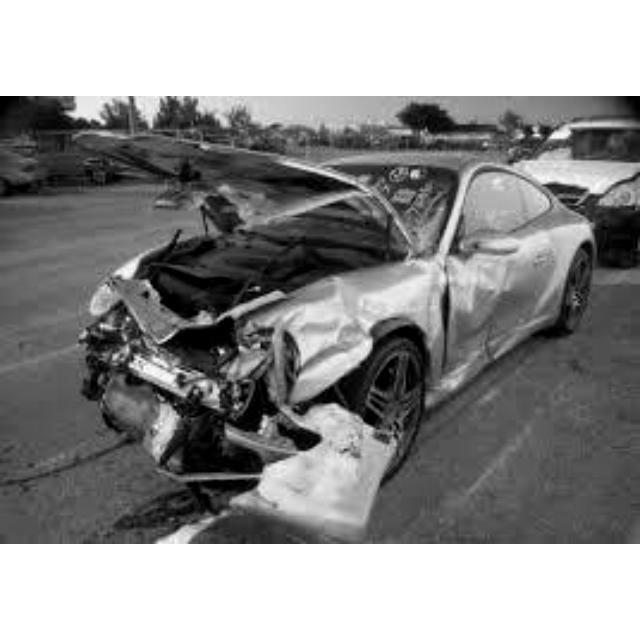doorouter-dent: (447, 257, 521, 364)
fender-dent: (306, 271, 434, 380)
front-bumper-dent: (82, 311, 275, 413)
